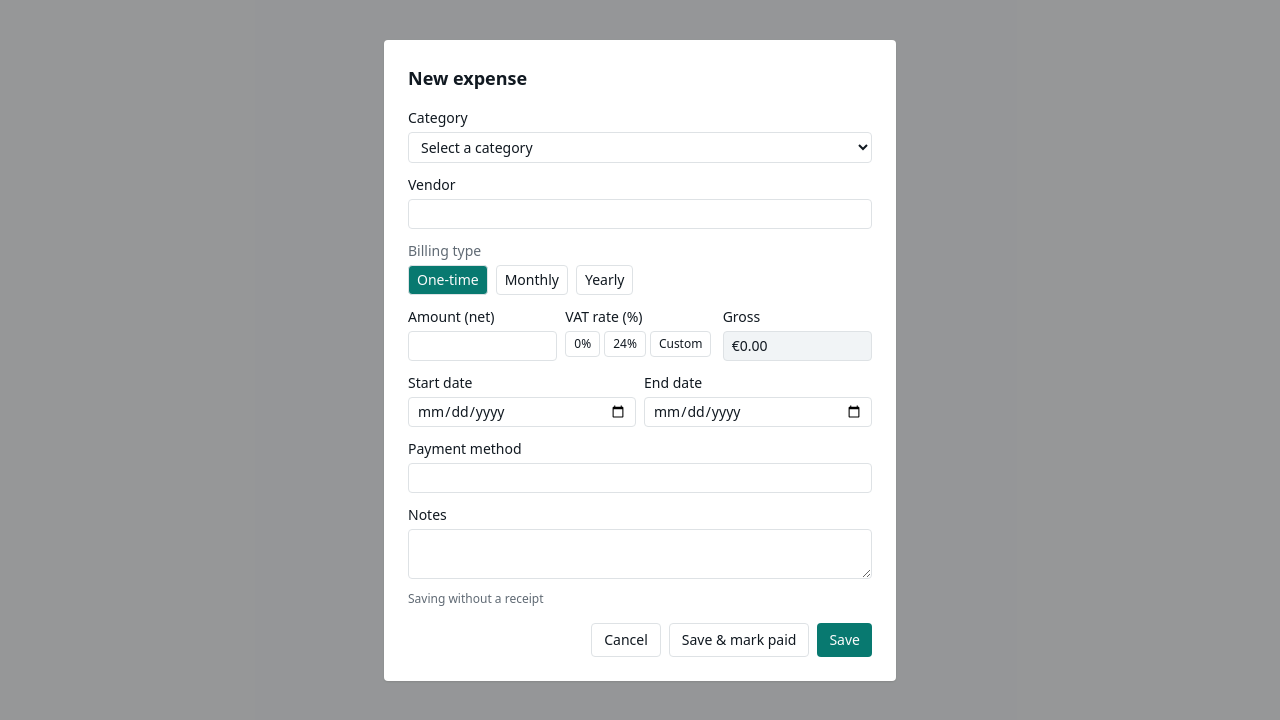
NewExpenseDialog — monthly auto end-date › lands on the last day of the target month for a month-end start (no overflow)
# Switch to a monthly billing period, then pick a month-end start date.
Click the button "Monthly": (532, 280) [496,264,568,294]
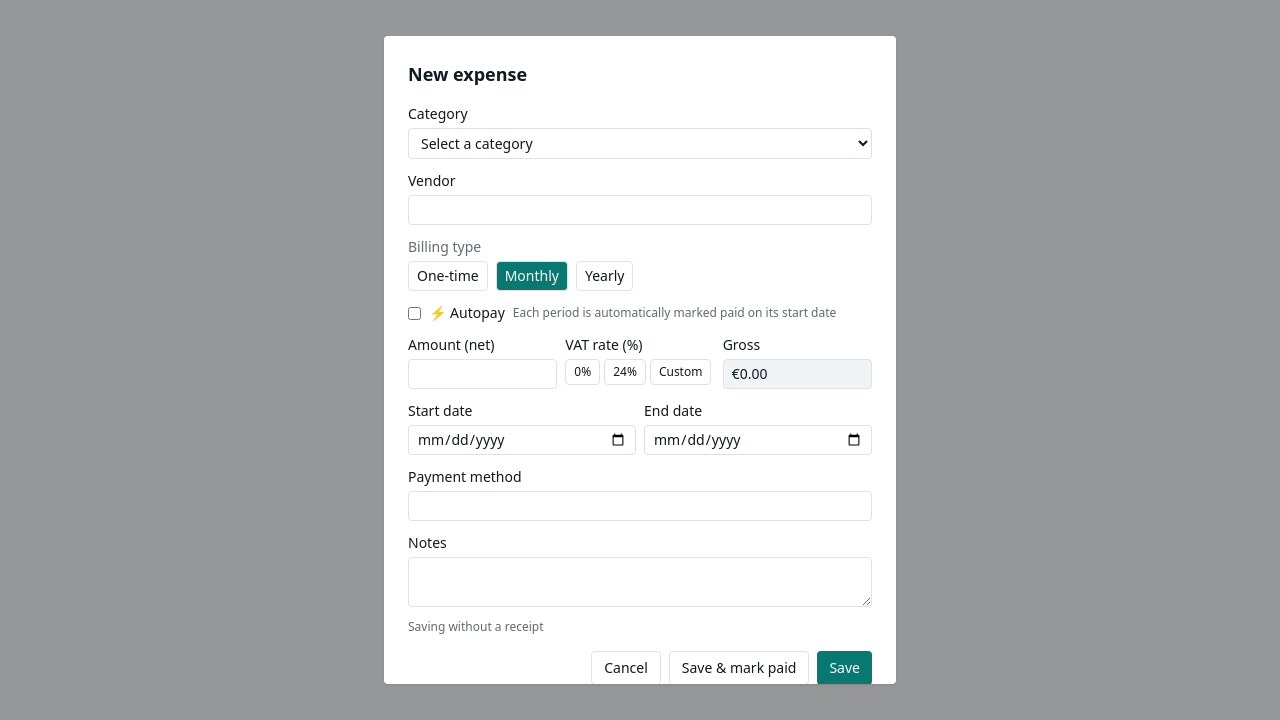
In the date field labelled "Start date": (522, 440) [408,425,636,455], type "2026-01-31"
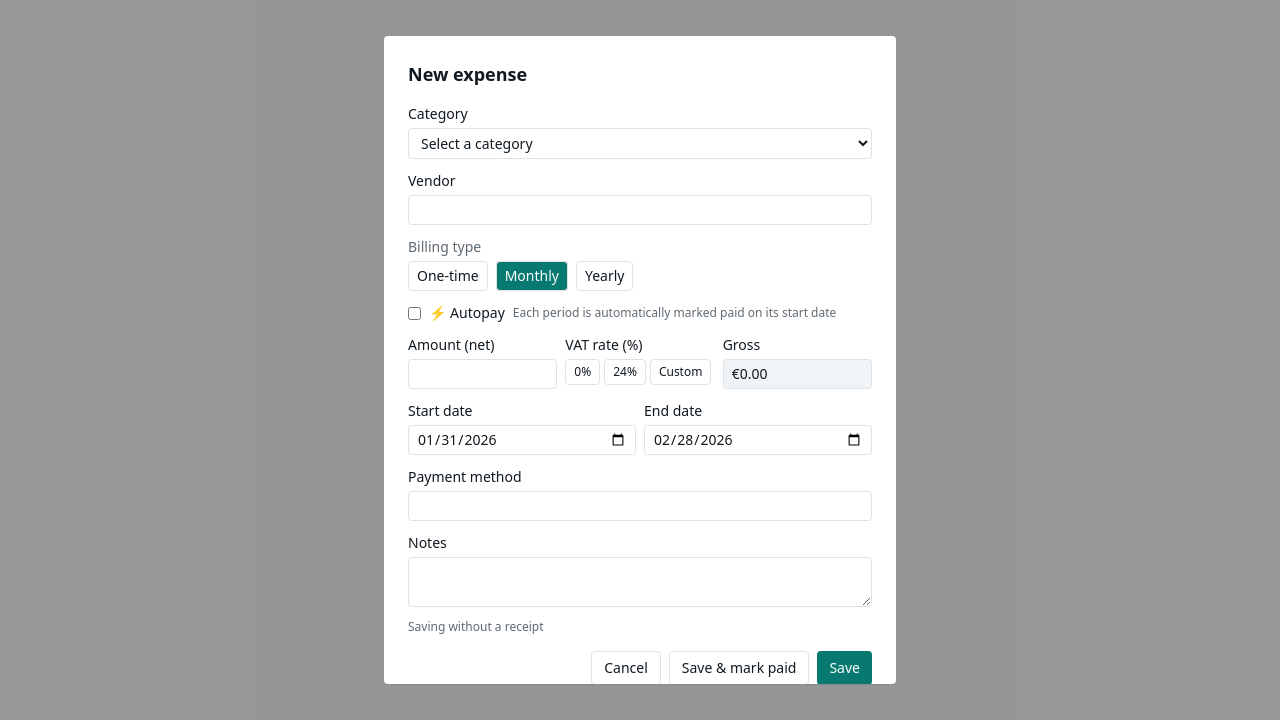
Check: the date field labelled "End date" holds "2026-02-28", box [644,425,872,455]
